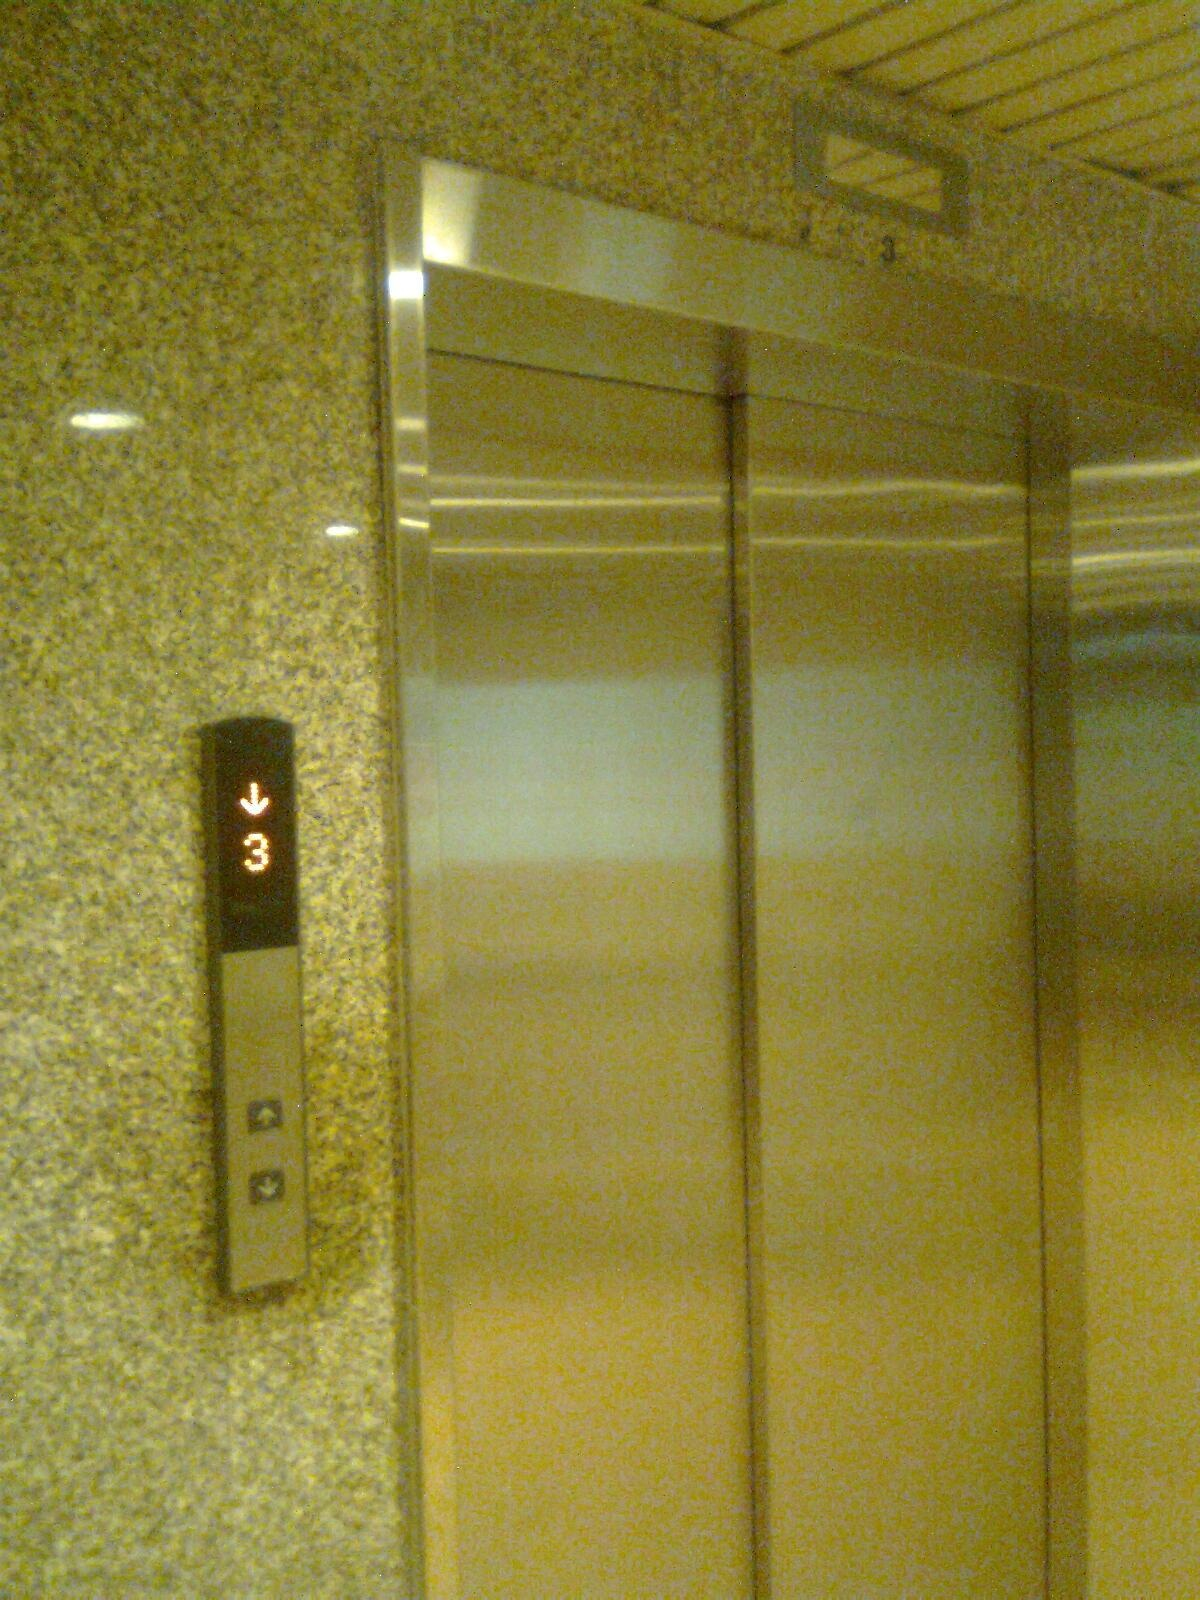down: (250, 1170, 286, 1203)
led: (199, 711, 305, 955)
up: (248, 1101, 284, 1131)
